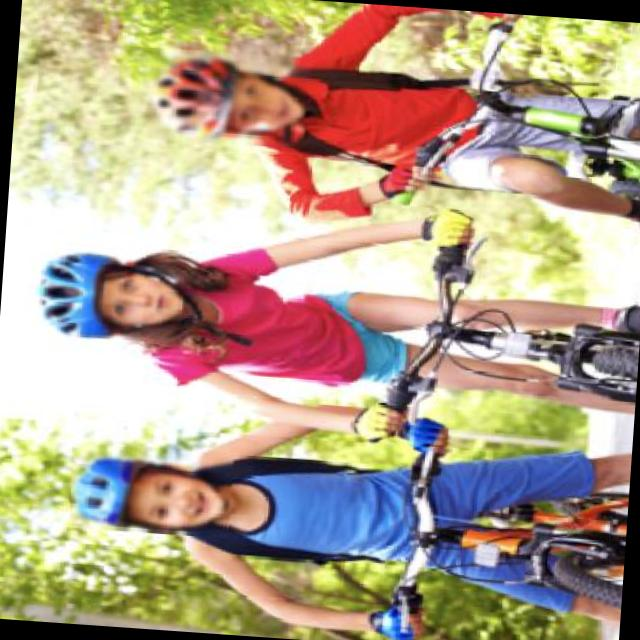With Helmet: (145, 45, 311, 148), (68, 444, 234, 536), (36, 250, 184, 343)
